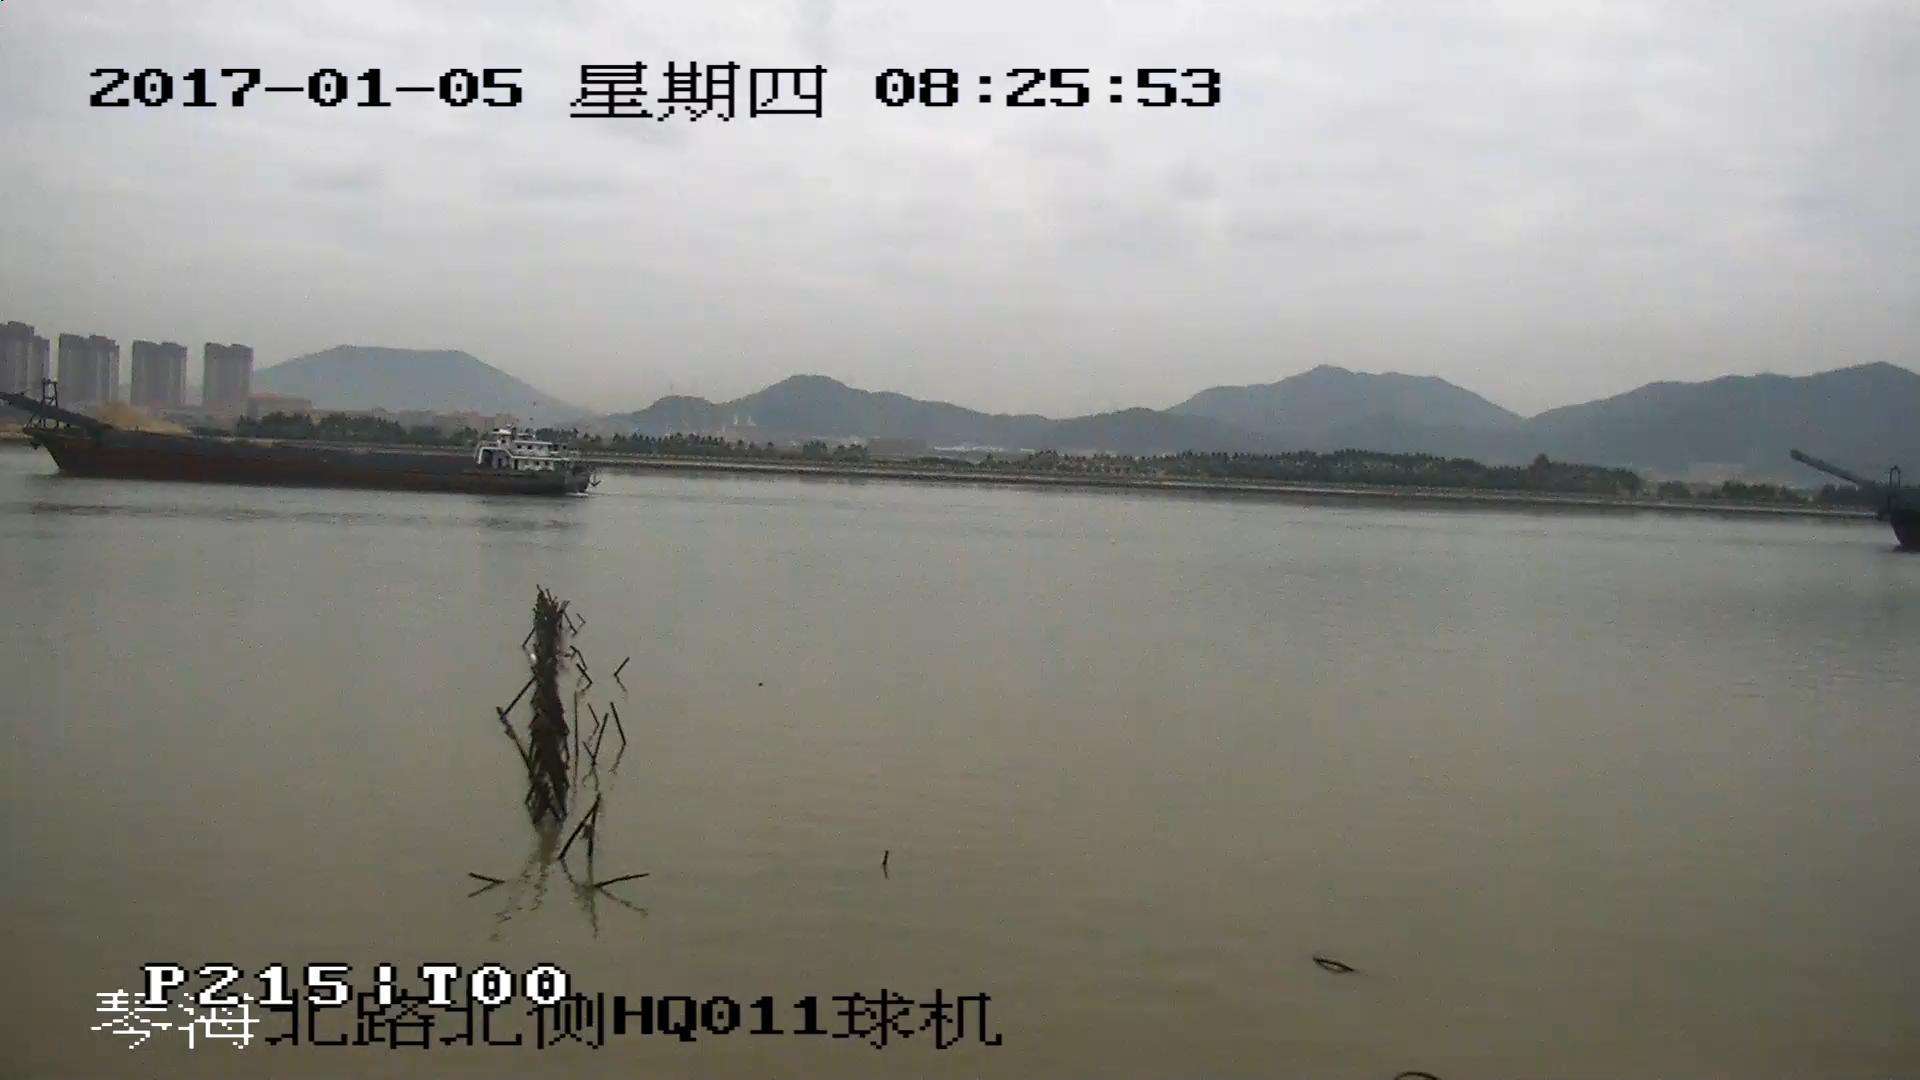Ship: (3, 378, 595, 495), (1793, 454, 1920, 549)
